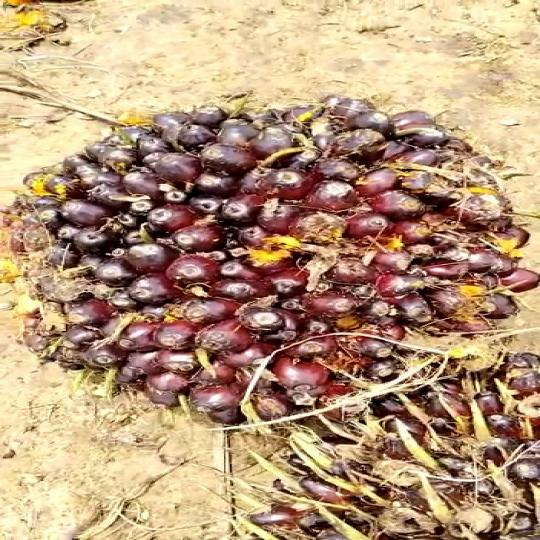kurang masak: (15, 99, 540, 406), (239, 366, 540, 540)
